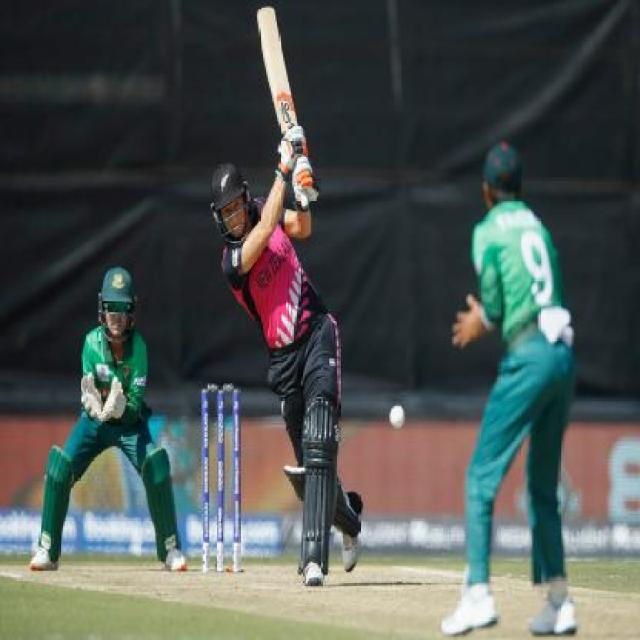ball: (361, 371, 440, 449)
